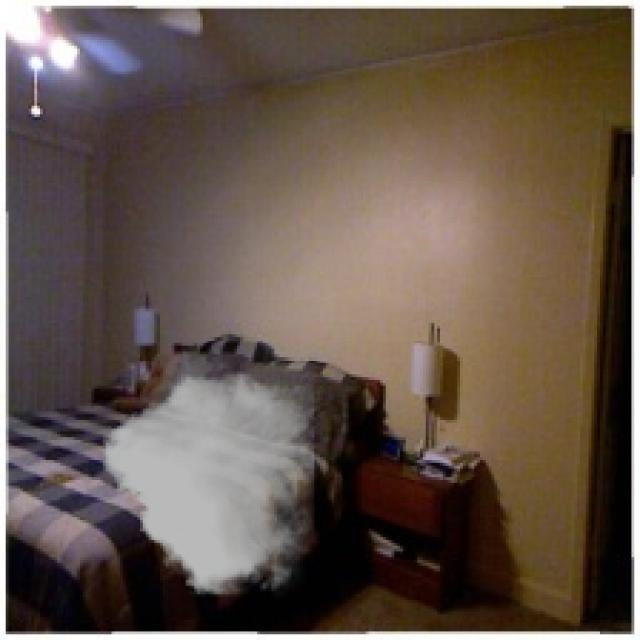Smoke: (103, 343, 314, 600)
